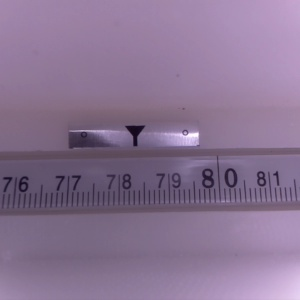0: (223, 169, 238, 188)
1: (273, 171, 280, 187)
6: (17, 176, 29, 192)
7: (54, 176, 65, 192), (1, 176, 12, 192), (71, 175, 81, 191), (164, 173, 174, 189), (155, 173, 165, 189), (105, 174, 115, 189)
8: (201, 169, 214, 188), (255, 171, 266, 187), (121, 173, 131, 189)
finger: (123, 125, 145, 147)
